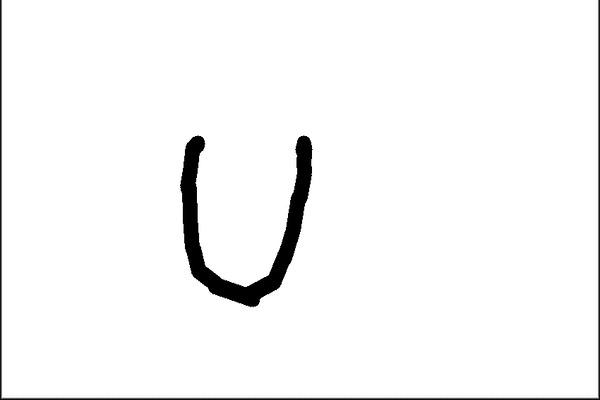U: (158, 126, 320, 312)
